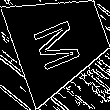M_E: (31, 11, 89, 71)
